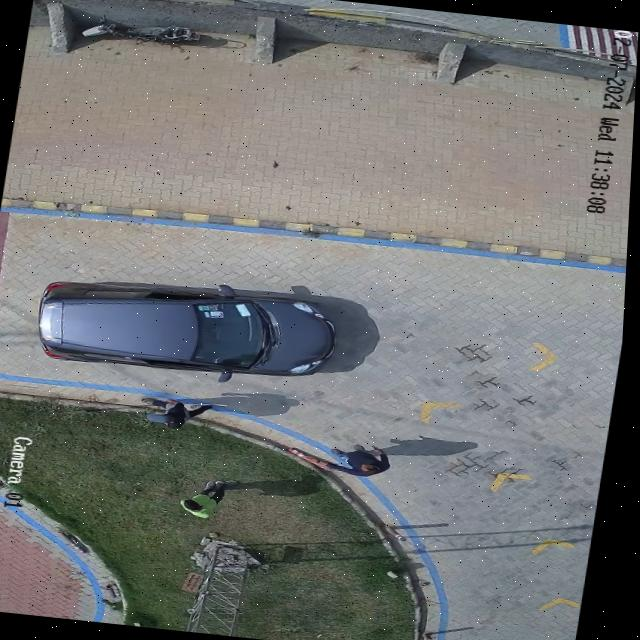car: (41, 282, 341, 376)
